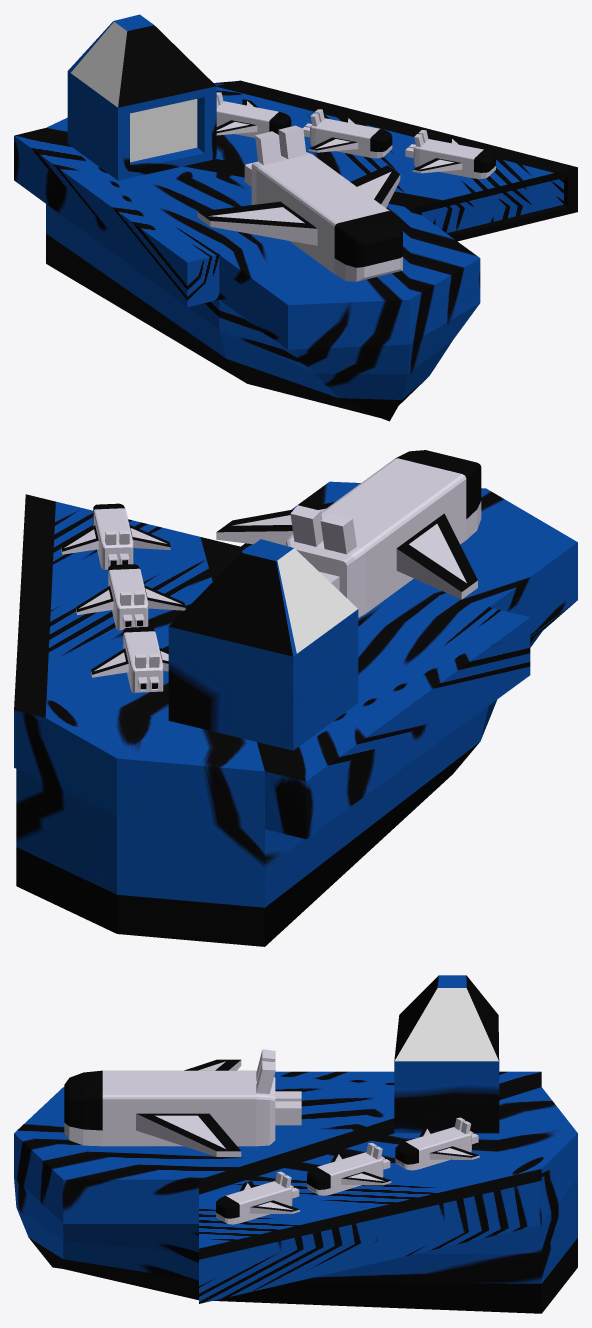
File: BLUE_AirplaneCarrier.fbx
The picture shows the model from 3 angles, top to bottom: view 1: azimuth 30°, elevation 25°; view 2: azimuth 150°, elevation 25°; view 3: azimuth 270°, elevation 25°; orthographic projection. The views are drawn at different scales.
Visible parts, largest first — view 1: Cube, Cube.001, Cube.003, Cube.004, Cube.002; view 2: Cube, Cube.001, Cube.003, Cube.004, Cube.002; view 3: Cube, Cube.001, Cube.003, Cube.002, Cube.004.
Part boxes in pixels (left/top/right/bottom): Cube: left=14, top=14, right=577, bottom=421; Cube.001: left=197, top=125, right=402, bottom=281; Cube.003: left=302, top=109, right=392, bottom=158; Cube.004: left=405, top=130, right=495, bottom=178; Cube.002: left=216, top=92, right=291, bottom=140; Cube: left=14, top=481, right=577, bottom=946; Cube.001: left=216, top=450, right=481, bottom=617; Cube.003: left=76, top=564, right=185, bottom=630; Cube.004: left=61, top=503, right=170, bottom=569; Cube.002: left=91, top=626, right=168, bottom=692; Cube: left=14, top=975, right=577, bottom=1313; Cube.001: left=64, top=1049, right=301, bottom=1156; Cube.003: left=307, top=1143, right=391, bottom=1195; Cube.002: left=395, top=1117, right=479, bottom=1170; Cube.004: left=216, top=1171, right=299, bottom=1224.
Size of the model in its own units: 558 by 359 by 706.
